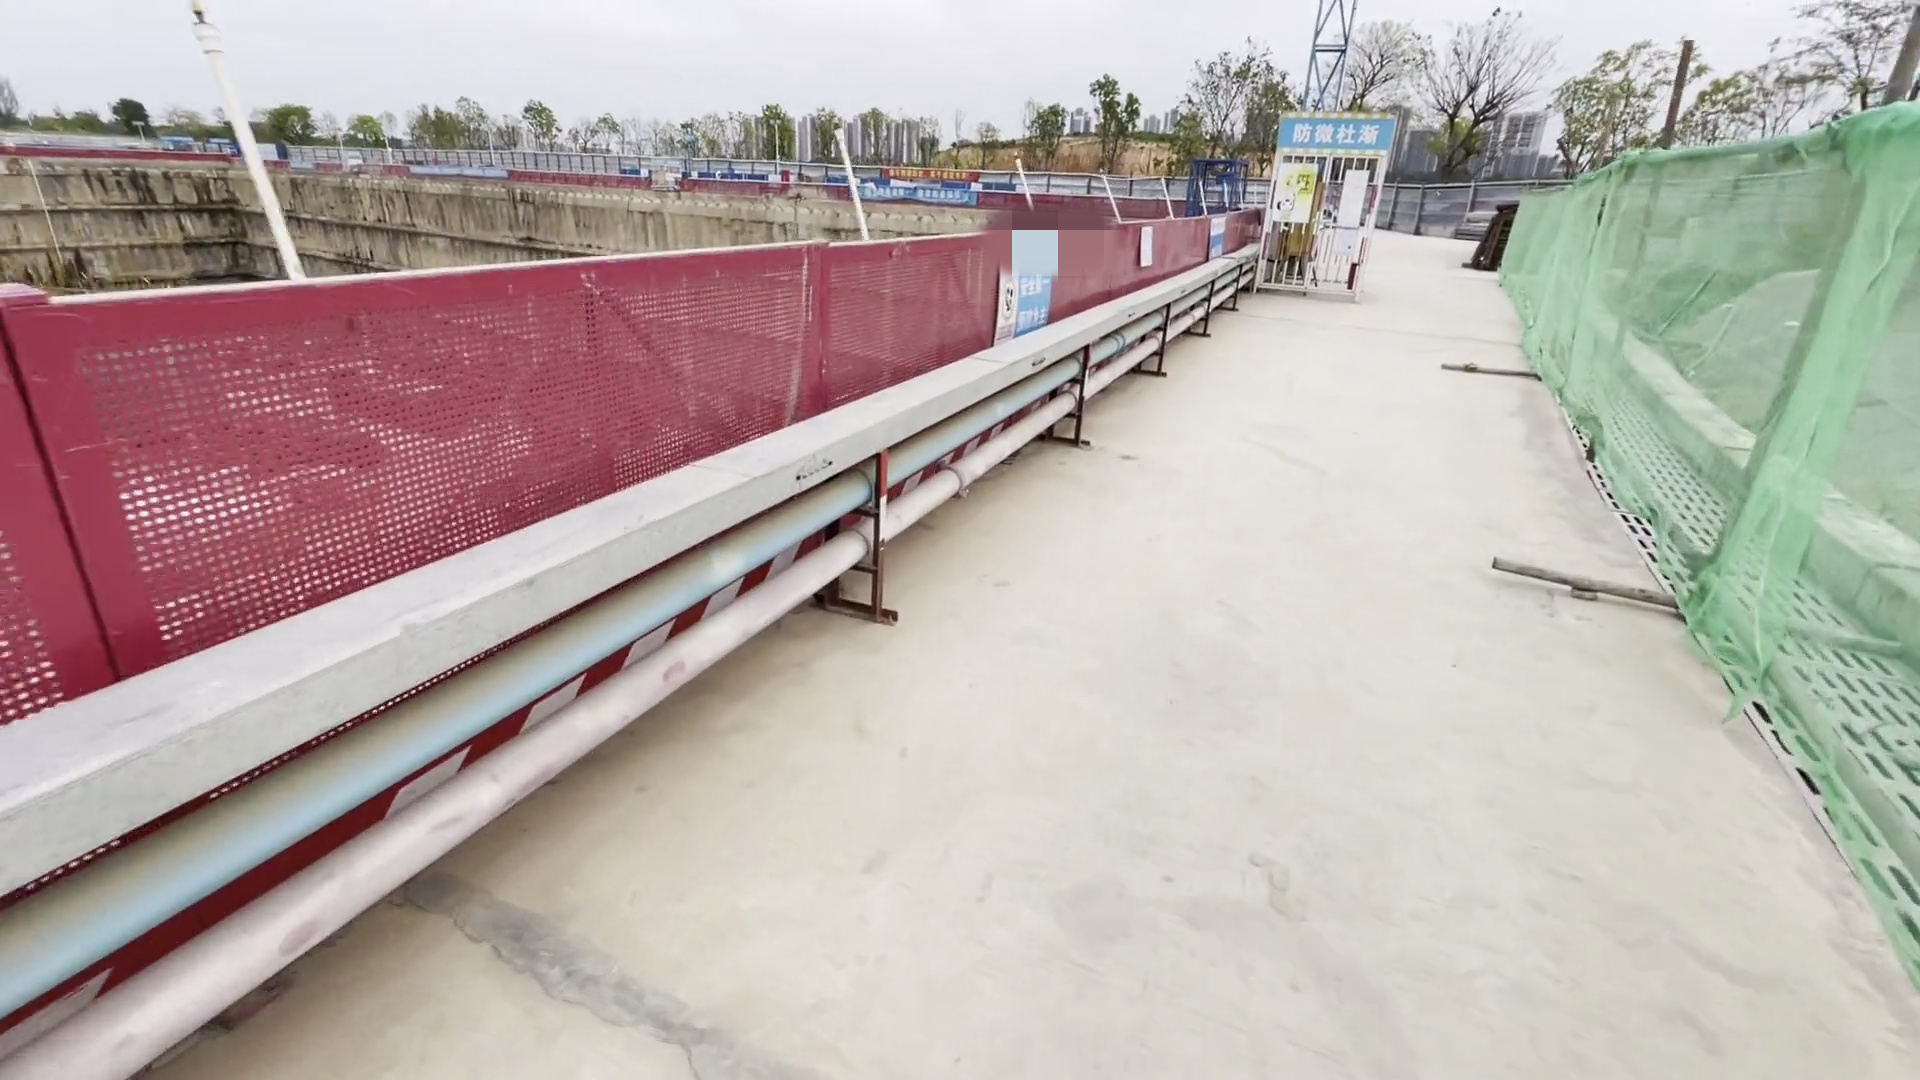fence: (1, 215, 1246, 728)
slogan: (872, 164, 982, 200), (1288, 117, 1382, 153), (1010, 272, 1063, 334)
